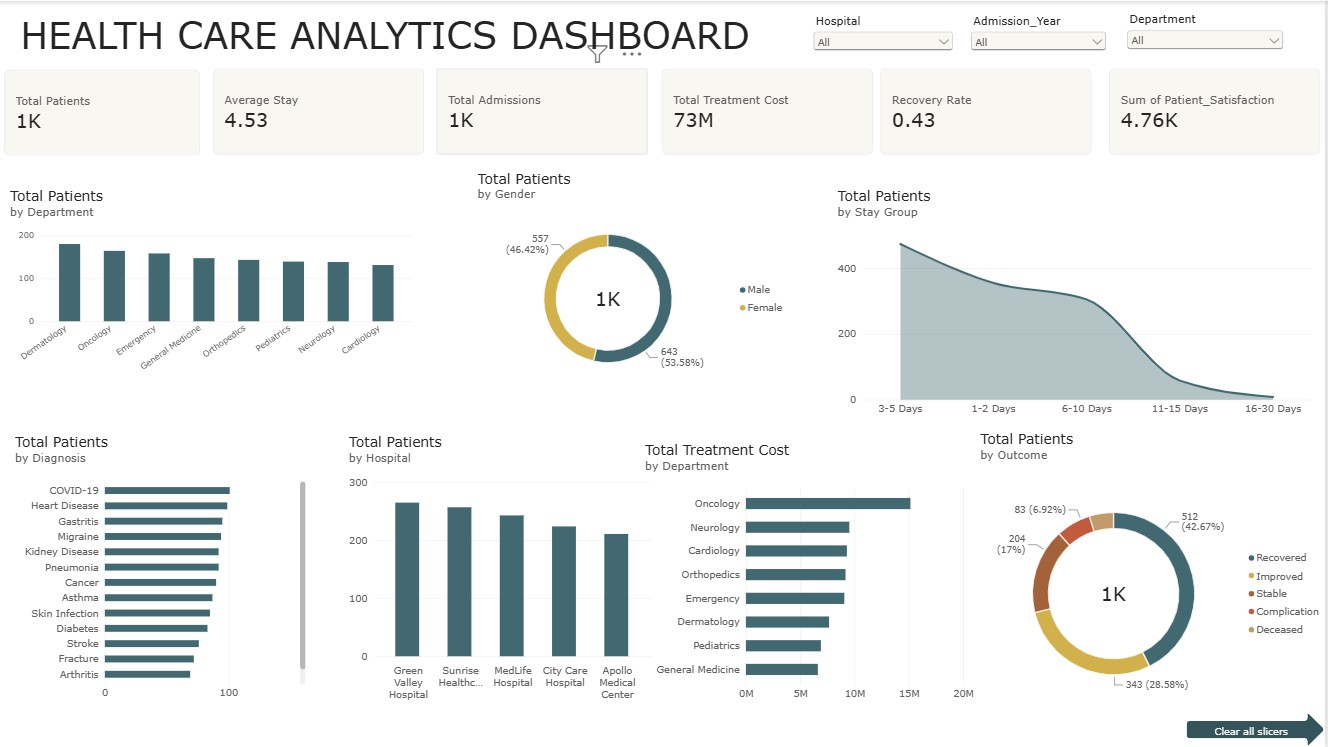

This screenshot's page, from the dashboard's own definition file:
{"tool":"powerbi","page":{"name":"Page 1","canvas":[1920,1080],"ordinal":0},"visuals":[{"type":"clusteredColumnChart","fields":{"Category":["Healthcare_Data_Cleaned.Department"],"Y":["Healthcare_Data_Cleaned.Total Patients"]},"box":[0,255,615,317.5],"z":0},{"type":"donutChart","fields":{"Category":["Healthcare_Data_Cleaned.Outcome"],"Y":["Healthcare_Data_Cleaned.Total Patients"]},"box":[1420,620,500,412.5],"z":1000},{"type":"barChart","fields":{"Category":["Healthcare_Data_Cleaned.Diagnosis"],"Y":["Healthcare_Data_Cleaned.Total Patients"]},"box":[7.5,612.5,452.5,420],"z":2000},{"type":"barChart","fields":{"Category":["Healthcare_Data_Cleaned.Department"],"Y":["Healthcare_Data_Cleaned.Total Treatment Cost"]},"box":[920,622.5,507.5,410],"z":3000},{"type":"stackedAreaChart","fields":{"Category":["Healthcare_Data_Cleaned.Stay Group"],"Y":["Healthcare_Data_Cleaned.Total Patients"]},"box":[1197.5,255,717.5,365],"z":4000},{"type":"cardVisual","fields":{"Data":["Healthcare_Data_Cleaned.Total Patients"]},"box":[7.2,99.5,284.1,124.9],"z":5000},{"type":"cardVisual","fields":{"Data":["Healthcare_Data_Cleaned.Average Stay"]},"box":[309.5,97.7,306.7,125.6],"z":6000},{"type":"cardVisual","fields":{"Data":["Healthcare_Data_Cleaned.Total Treatment Cost"]},"box":[960,97.5,306.7,125.6],"z":7000},{"type":"cardVisual","fields":{"Data":["Healthcare_Data_Cleaned.Recovery Rate"]},"box":[1275,97.5,306.7,125.6],"z":8000},{"type":"cardVisual","fields":{"Data":["Sum(Healthcare_Data_Cleaned.Patient_Satisfaction)"]},"box":[1607.5,97.5,306.7,125.6],"z":9000},{"type":"cardVisual","fields":{"Data":["Healthcare_Data_Cleaned.Total Admissions"]},"box":[632.5,97.5,306.7,125.6],"z":10000},{"type":"clusteredColumnChart","fields":{"Category":["Healthcare_Data_Cleaned.Hospital"],"Y":["Healthcare_Data_Cleaned.Total Patients"]},"box":[490,612.5,470,420],"z":11000},{"type":"donutChart","fields":{"Category":["Healthcare_Data_Cleaned.Gender"],"Y":["Healthcare_Data_Cleaned.Total Patients"]},"box":[677.5,230,482.5,342.5],"z":12000},{"type":"textbox","box":[30,15.7,1084.3,67.1],"z":13000},{"type":"slicer","fields":{"Values":["Healthcare_Data_Cleaned.Hospital"]},"box":[1173.8,17.5,211.2,66.2],"z":14000},{"type":"slicer","fields":{"Values":["Healthcare_Data_Cleaned.Admission_Year"]},"box":[1402.5,17.5,205,66.7],"z":15000},{"type":"slicer","fields":{"Values":["Healthcare_Data_Cleaned.Department"]},"box":[1628.8,16.2,235,67.5],"z":16000},{"type":"actionButton","box":[1720,1030,200,50],"z":17000}]}

Visuals, with their boxes in screenshot pixels (x1, y1, x2, y2), scaled from the page's 1920x1080 canvas onto the 1328x747 screenshot:
clusteredColumnChart - Healthcare_Data_Cleaned.Department x Healthcare_Data_Cleaned.Total Patients: bbox(0, 176, 425, 396)
donutChart - Healthcare_Data_Cleaned.Outcome x Healthcare_Data_Cleaned.Total Patients: bbox(982, 429, 1327, 714)
barChart - Healthcare_Data_Cleaned.Diagnosis x Healthcare_Data_Cleaned.Total Patients: bbox(5, 424, 318, 714)
barChart - Healthcare_Data_Cleaned.Department x Healthcare_Data_Cleaned.Total Treatment Cost: bbox(636, 431, 987, 714)
stackedAreaChart - Healthcare_Data_Cleaned.Stay Group x Healthcare_Data_Cleaned.Total Patients: bbox(828, 176, 1325, 429)
cardVisual - Healthcare_Data_Cleaned.Total Patients: bbox(5, 69, 201, 155)
cardVisual - Healthcare_Data_Cleaned.Average Stay: bbox(214, 68, 426, 154)
cardVisual - Healthcare_Data_Cleaned.Total Treatment Cost: bbox(664, 67, 876, 154)
cardVisual - Healthcare_Data_Cleaned.Recovery Rate: bbox(882, 67, 1094, 154)
cardVisual - Sum(Healthcare_Data_Cleaned.Patient_Satisfaction): bbox(1112, 67, 1324, 154)
cardVisual - Healthcare_Data_Cleaned.Total Admissions: bbox(437, 67, 650, 154)
clusteredColumnChart - Healthcare_Data_Cleaned.Hospital x Healthcare_Data_Cleaned.Total Patients: bbox(339, 424, 664, 714)
donutChart - Healthcare_Data_Cleaned.Gender x Healthcare_Data_Cleaned.Total Patients: bbox(469, 159, 802, 396)
textbox: bbox(21, 11, 771, 57)
slicer - Healthcare_Data_Cleaned.Hospital: bbox(812, 12, 958, 58)
slicer - Healthcare_Data_Cleaned.Admission_Year: bbox(970, 12, 1112, 58)
slicer - Healthcare_Data_Cleaned.Department: bbox(1127, 11, 1289, 58)
actionButton: bbox(1190, 712, 1327, 746)
